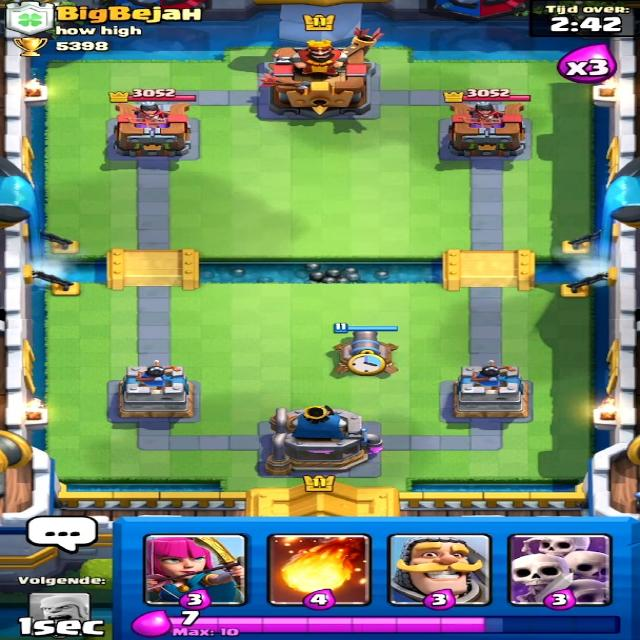Cannon_Troop: (322, 326, 412, 368)
Fireball_Card: (270, 526, 367, 608)
